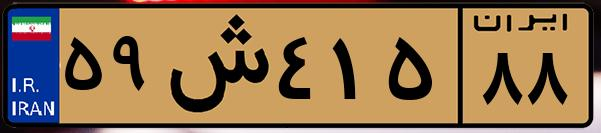1: (330, 28, 385, 110)
4: (270, 28, 330, 110)
5: (385, 28, 445, 110), (57, 26, 110, 100)
8: (475, 38, 525, 113), (525, 38, 570, 115)
9: (110, 28, 158, 98)
ش: (158, 12, 270, 120)
